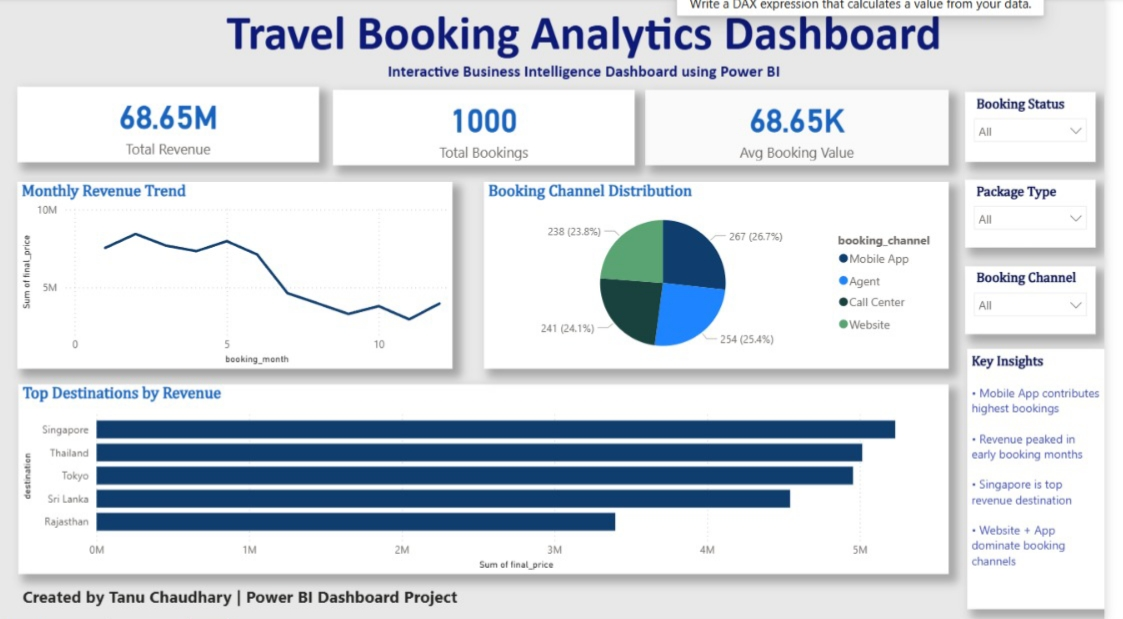

Layout of this report page (visuals, bound fields, positions):
{"tool":"powerbi","page":{"name":"Page 1","canvas":[1280,720],"ordinal":0},"visuals":[{"type":"card","fields":{"Values":["Sum(travel_bookings_clean.final_price)"]},"box":[20.5,102.5,349.9,86.9],"z":0},{"type":"card","fields":{"Values":["CountNonNull(travel_bookings_clean.final_price)"]},"box":[386.1,106.2,349.9,86.9],"z":1000},{"type":"card","fields":{"Values":["Avg(travel_bookings_clean.final_price)"]},"box":[748,106.2,351.1,86.9],"z":2000},{"type":"textbox","box":[223.2,0,907.2,137.5],"z":3000},{"type":"lineChart","title":"Monthly Revenue Trend","fields":{"Category":["travel_bookings_clean.booking_month"],"Y":["Sum(travel_bookings_clean.final_price)"]},"box":[20.5,212.3,504.3,216],"z":4000},{"type":"clusteredBarChart","title":"Top Destinations by Revenue","fields":{"Y":["Sum(travel_bookings_clean.final_price)"],"Category":["travel_bookings_clean.destination"]},"box":[21.7,446.4,1077.4,219.6],"z":5000},{"type":"pieChart","title":"Booking Channel Distribution","fields":{"Category":["travel_bookings_clean.booking_channel"],"Y":["CountNonNull(travel_bookings_clean.booking_id)"]},"box":[561,212.3,538.1,216],"z":6000},{"type":"slicer","title":"Booking status","fields":{"Values":["travel_bookings_clean.booking_status"]},"box":[1118.4,108.6,150.8,80.8],"z":7000},{"type":"slicer","fields":{"Values":["travel_bookings_clean.package_type"]},"box":[1118.4,210.5,150.8,78.4],"z":8000},{"type":"slicer","fields":{"Values":["travel_bookings_clean.booking_channel"]},"box":[1118.4,310.1,150.8,78.4],"z":9000},{"type":"textbox","box":[1120.8,405.4,159.3,300.4],"z":9001},{"type":"textbox","box":[21.7,674.4,661.1,45.8],"z":9002}]}

Visuals, with their boxes on the page's 1280x720 design canvas (x1, y1, x2, y2). These are canvas units, not pixel positions in the 1123x619 screenshot, which may show the page scaled, cropped or inside an application window:
card - Sum(travel_bookings_clean.final_price): x1=20 y1=102 x2=370 y2=189
card - CountNonNull(travel_bookings_clean.final_price): x1=386 y1=106 x2=736 y2=193
card - Avg(travel_bookings_clean.final_price): x1=748 y1=106 x2=1099 y2=193
textbox: x1=223 y1=0 x2=1130 y2=138
"Monthly Revenue Trend" lineChart: x1=20 y1=212 x2=525 y2=428
"Top Destinations by Revenue" clusteredBarChart: x1=22 y1=446 x2=1099 y2=666
"Booking Channel Distribution" pieChart: x1=561 y1=212 x2=1099 y2=428
"Booking status" slicer: x1=1118 y1=109 x2=1269 y2=189
slicer - travel_bookings_clean.package_type: x1=1118 y1=210 x2=1269 y2=289
slicer - travel_bookings_clean.booking_channel: x1=1118 y1=310 x2=1269 y2=388
textbox: x1=1121 y1=405 x2=1280 y2=706
textbox: x1=22 y1=674 x2=683 y2=720
